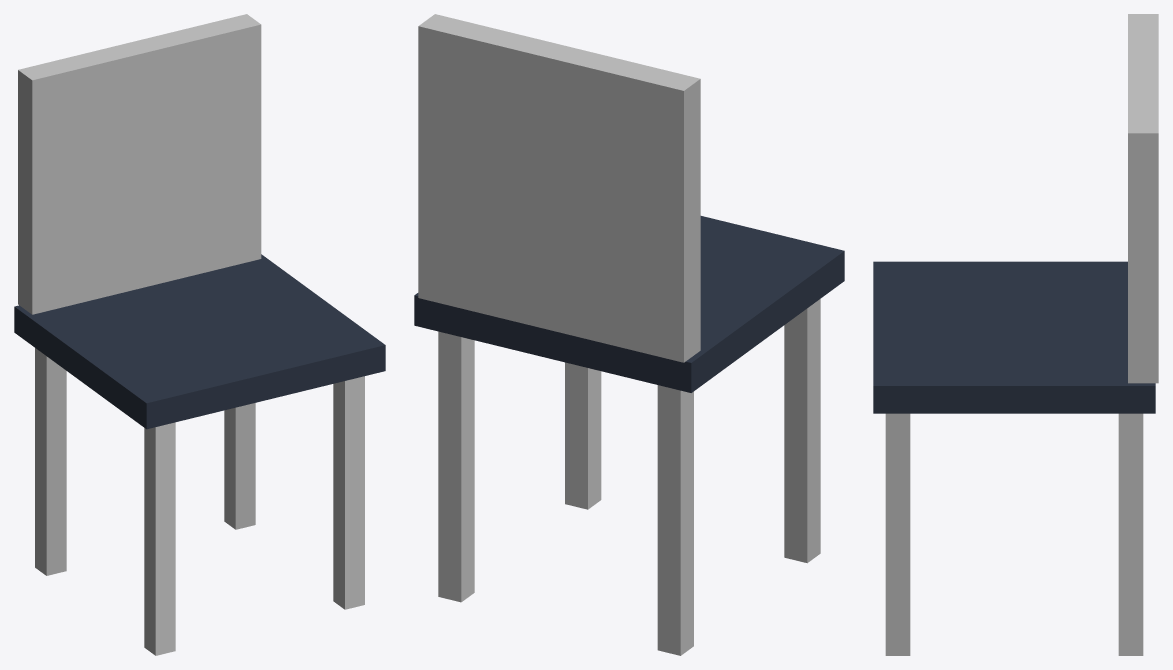
Rendered from Chair.fbx.
3 renders of one model, left to right at view 1: azimuth 30°, elevation 25°; view 2: azimuth 150°, elevation 25°; view 3: azimuth 270°, elevation 25°, orthographic. The views are drawn at different scales.
Parts seen in each view (by area): view 1: Chair; view 2: Chair; view 3: Chair.
Part boxes in pixels (x1,y1,x2,y2): Chair: (14, 14, 385, 655); Chair: (414, 14, 844, 655); Chair: (873, 14, 1158, 655).
Size of the model in its own units: 0.48 by 0.95 by 0.465.
